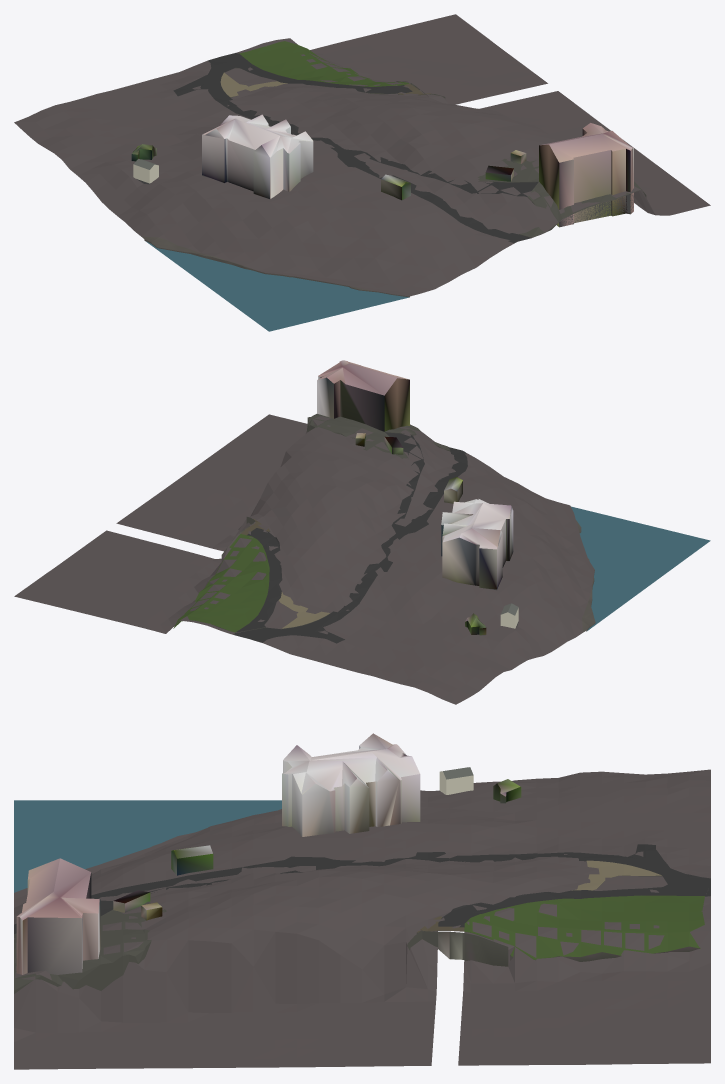
3 renders of one model, top to bottom at view 1: azimuth 30°, elevation 25°; view 2: azimuth 150°, elevation 25°; view 3: azimuth 270°, elevation 25°, orthographic. The views are drawn at different scales.
Visible parts, largest first — view 1: c_m07_m11, append:c_m07_m11; view 2: c_m07_m11; view 3: c_m07_m11.
Part boxes in pixels (<box>): c_m07_m11: <box>14,14,710,331</box>; append:c_m07_m11: <box>144,239,409,297</box>; c_m07_m11: <box>14,360,710,704</box>; c_m07_m11: <box>14,733,710,1069</box>.
Bounding box in the file's own units: 128 × 28.36 × 128.
